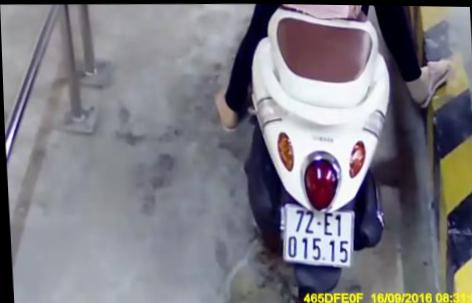LP: (276, 201, 354, 269)
